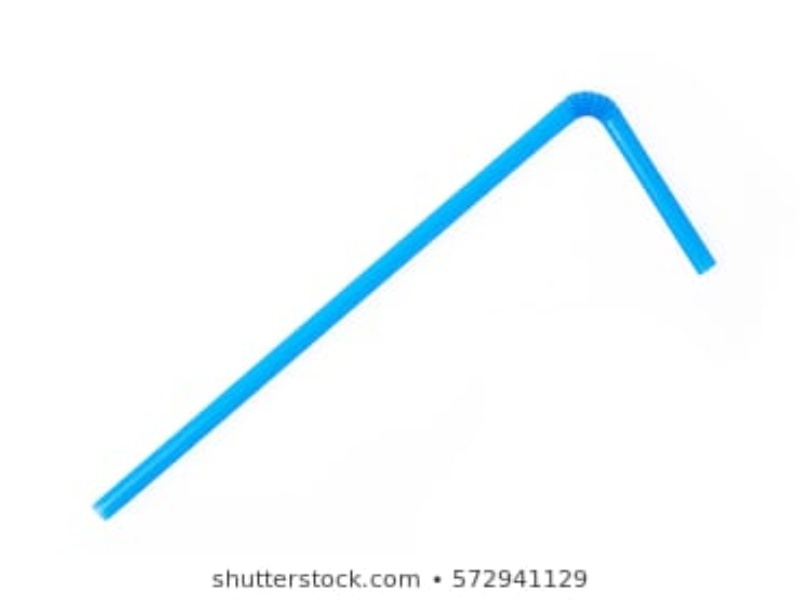straw: (92, 90, 719, 528)
